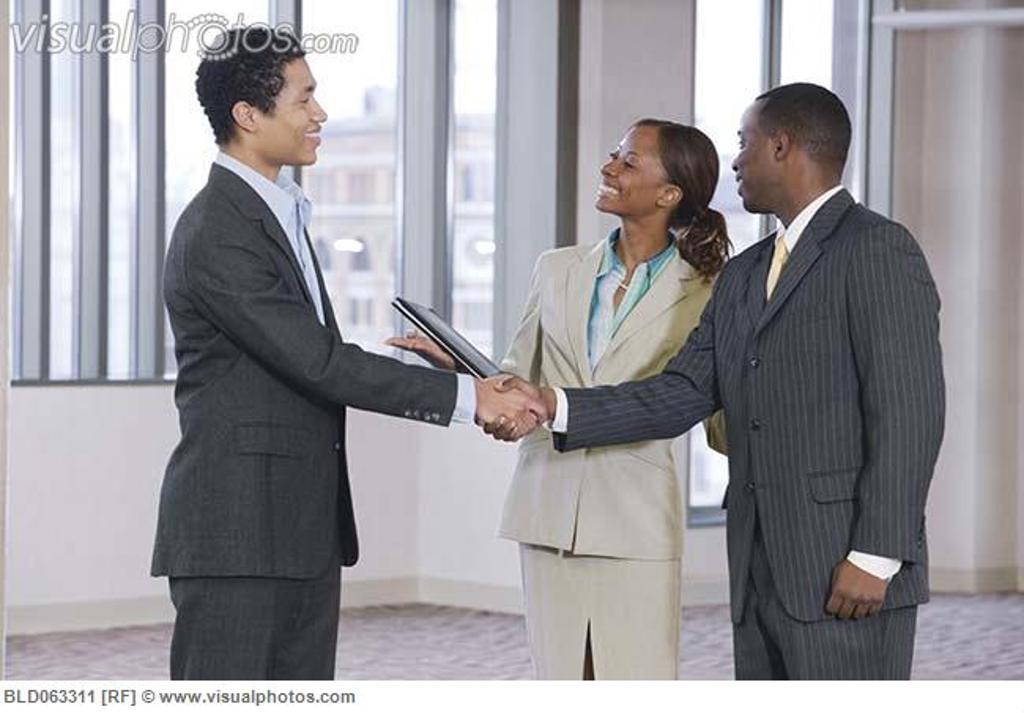face: (253, 57, 327, 165), (594, 125, 658, 216), (730, 111, 777, 211)
